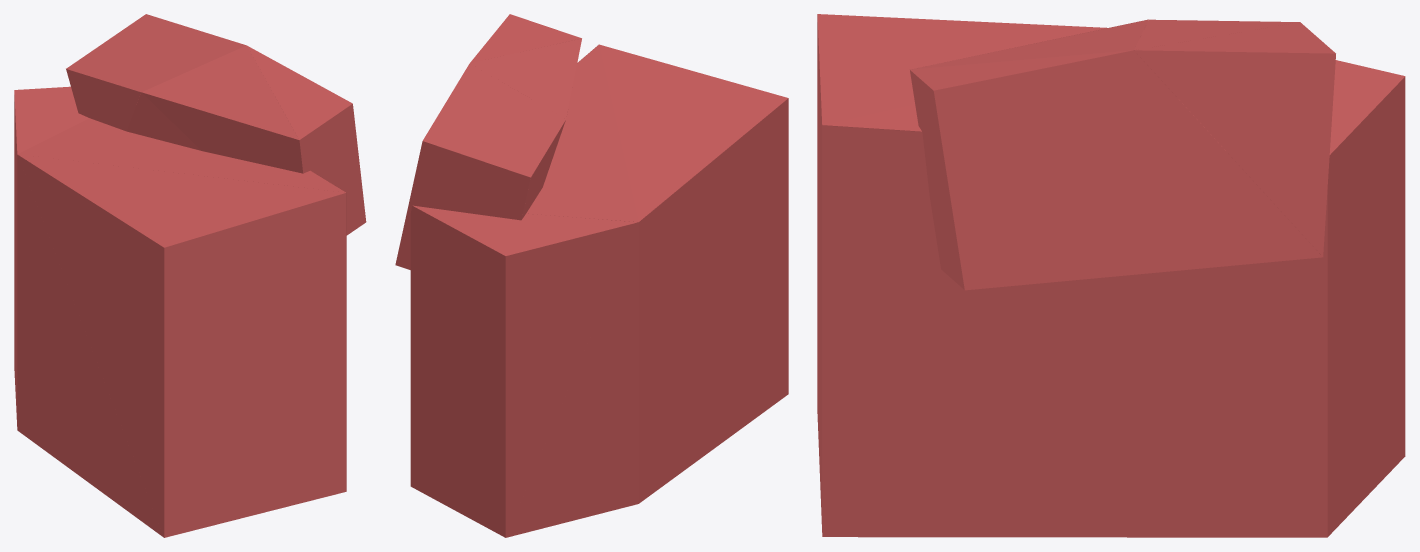
File: iwante_move_r.glb
3 views of the same model, side by side, from view 1: azimuth 30°, elevation 25°; view 2: azimuth 150°, elevation 25°; view 3: azimuth 270°, elevation 25° (orthographic). The views are drawn at different scales.
Visible parts, largest first — view 1: iwante_move_r_col; view 2: iwante_move_r_col; view 3: iwante_move_r_col.
Boxes of the visible parts, x1=… form: iwante_move_r_col: x1=14, y1=14, x2=366, y2=537; iwante_move_r_col: x1=395, y1=14, x2=788, y2=537; iwante_move_r_col: x1=817, y1=14, x2=1405, y2=537.
Bounding box in the file's own units: 2.7 × 3.63 × 3.9.
